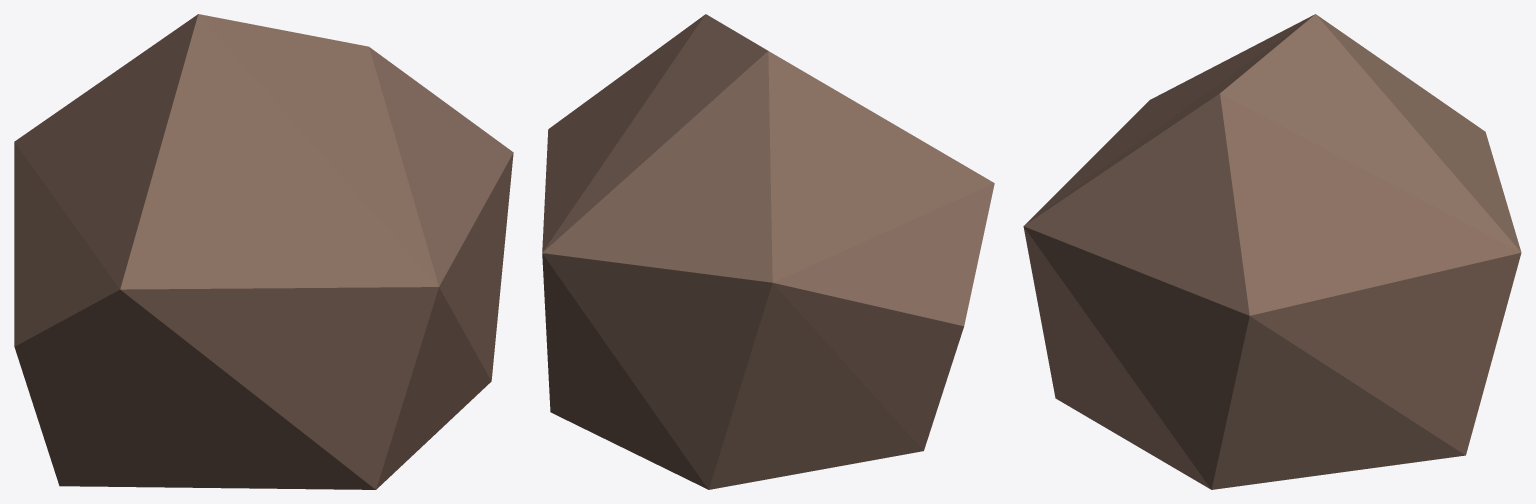
The model's file is Rock1.fbx.
3 renders of one model, left to right at view 1: azimuth 30°, elevation 25°; view 2: azimuth 150°, elevation 25°; view 3: azimuth 270°, elevation 25°, orthographic. The views are drawn at different scales.
Visible parts, largest first — view 1: Icosphere; view 2: Icosphere; view 3: Icosphere.
Part boxes in pixels (x1,y1,x2,y2): Icosphere: (14,14,513,489); Icosphere: (542,14,994,489); Icosphere: (1023,14,1521,489).
Bounding box in the file's own units: 207 × 176 × 196.
